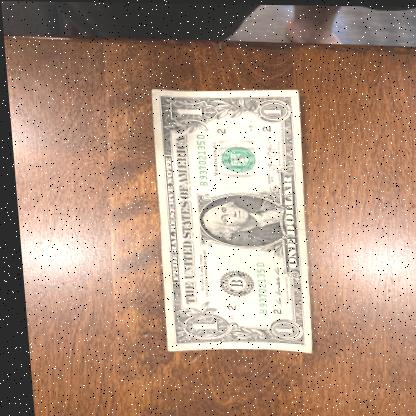one-front: (142, 87, 314, 352)
